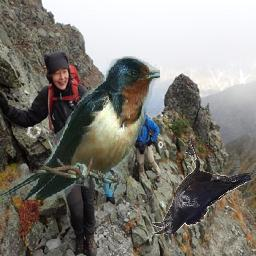Crow: (152, 135, 252, 235)
Swallow: (0, 56, 160, 200)
